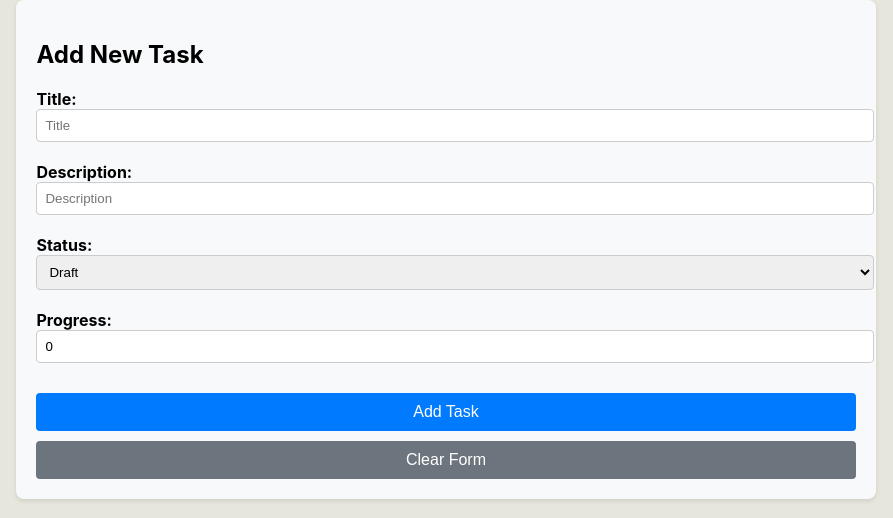
TaskFormModal › resets the form fields when Clear Form button is clicked
Type "Test Task" into the field with placeholder "Title" at point(455, 125), box 36,109 -> 874,142
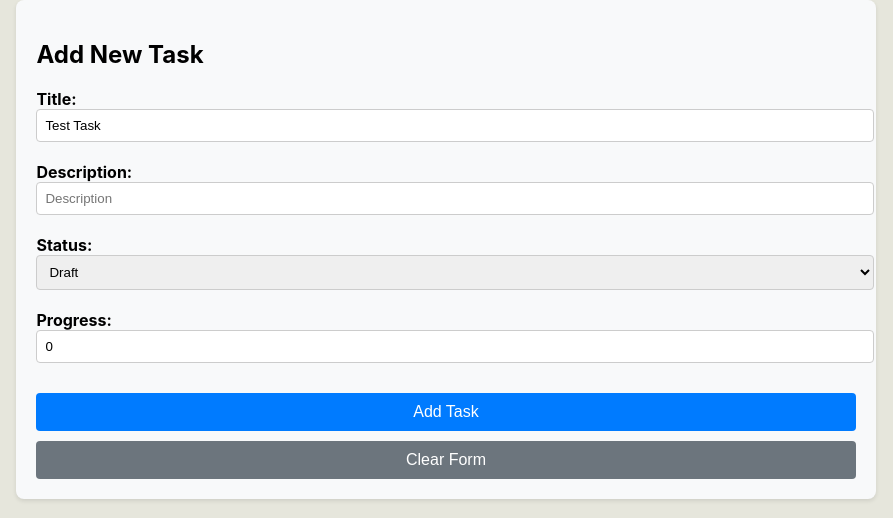
Type "Test Description" into the field with placeholder "Description" at point(455, 198), box 36,182 -> 874,215
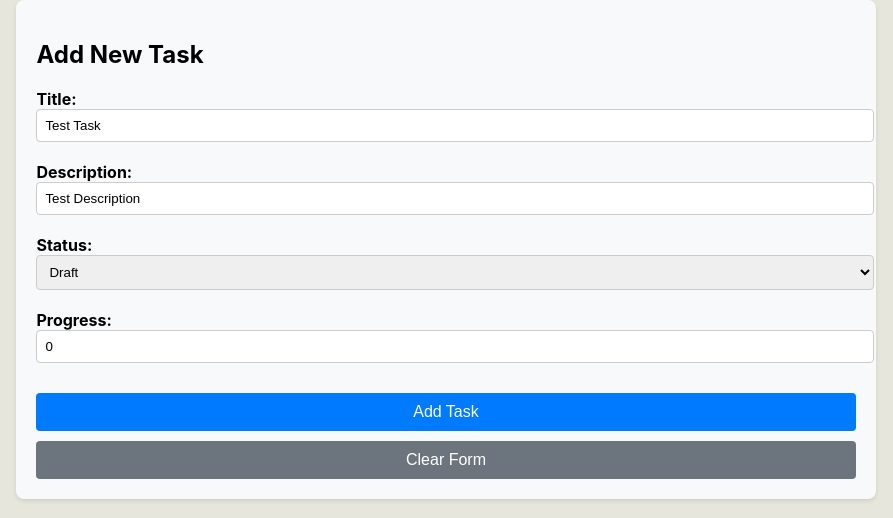
Replace the text in the field with placeholder "Progress" with "50" at point(455, 346), box 36,330 -> 874,363
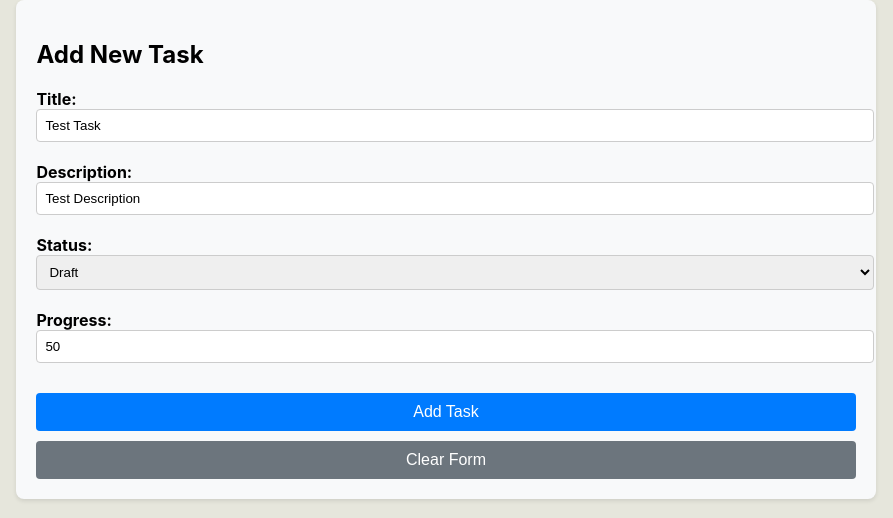
Click the button "Clear Form" at point(446, 460), box 36,441 -> 856,479
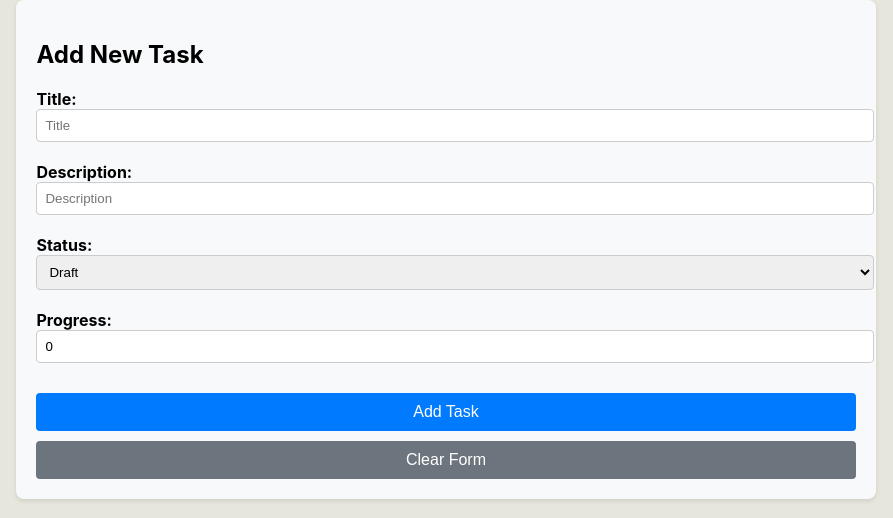
Result: the field with placeholder "Title" is empty at 36,109 -> 874,142
Result: the field with placeholder "Description" is empty at 36,182 -> 874,215
Result: the field with placeholder "Progress" holds "0" at 36,330 -> 874,363
